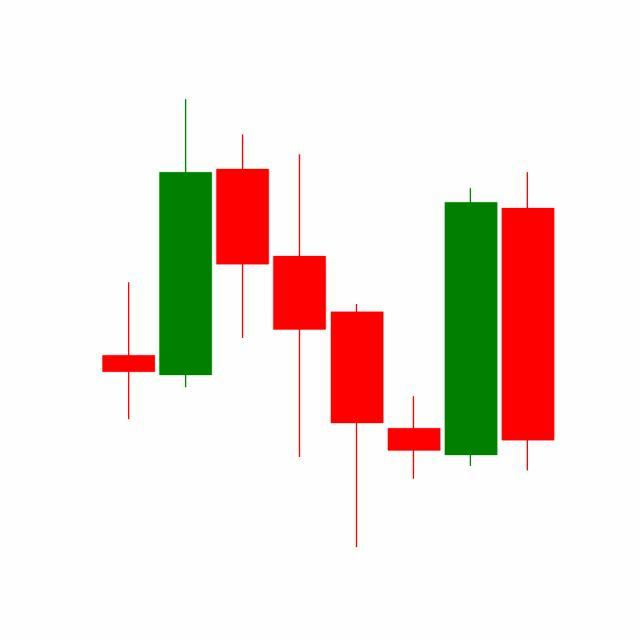Three Line Strike: (271, 151, 501, 549)
